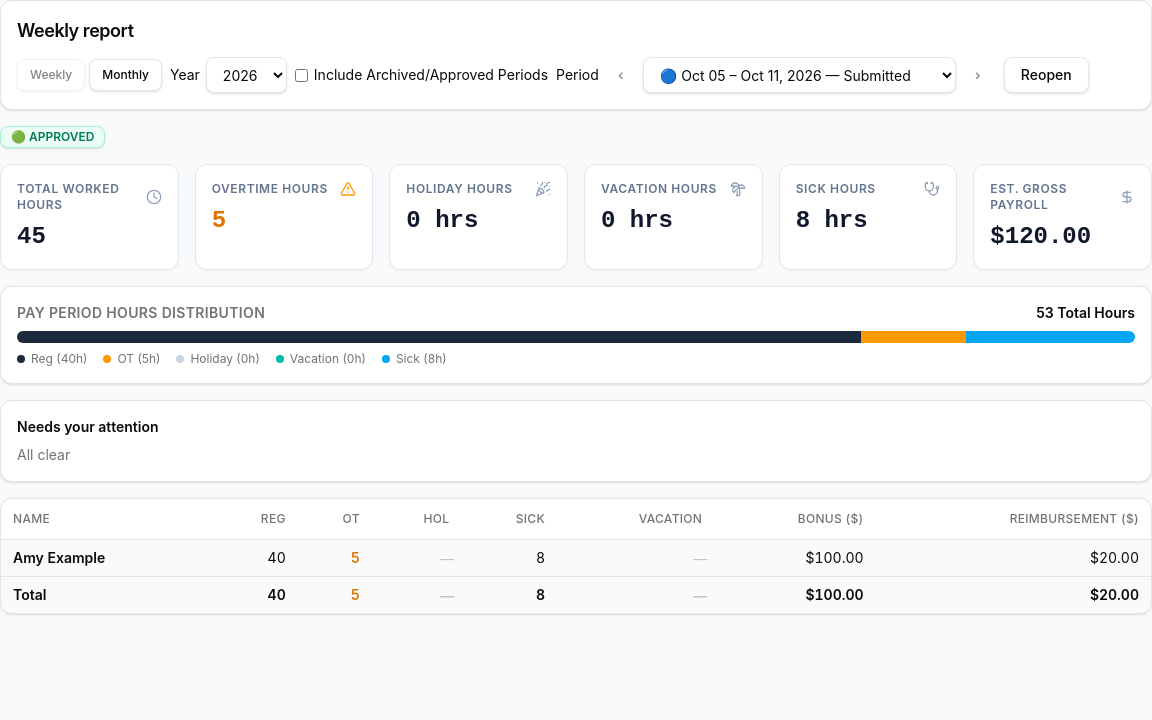
it: ReportPage › reopen posts the reason and returns the period to OPEN
This screenshot has width=1152, height=720.
Expected: the text "Amy Example" is shown, [13, 548, 105, 566]
Step 1. Click the button "Reopen" → [1046, 75], box [1004, 57, 1089, 93]
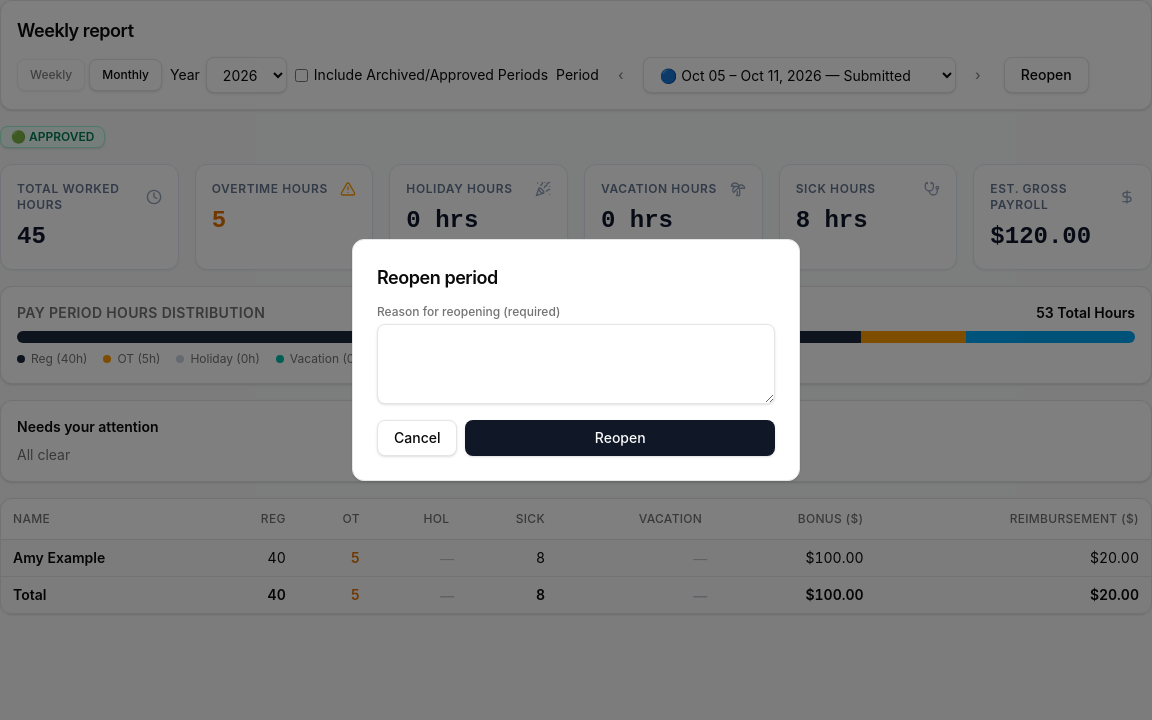
Expected: the dialog "Reopen period" is shown, [352, 239, 800, 481]
Step 2. Type "payroll error" into the text box named "Reopen reason" → [576, 364], box [377, 324, 775, 404]
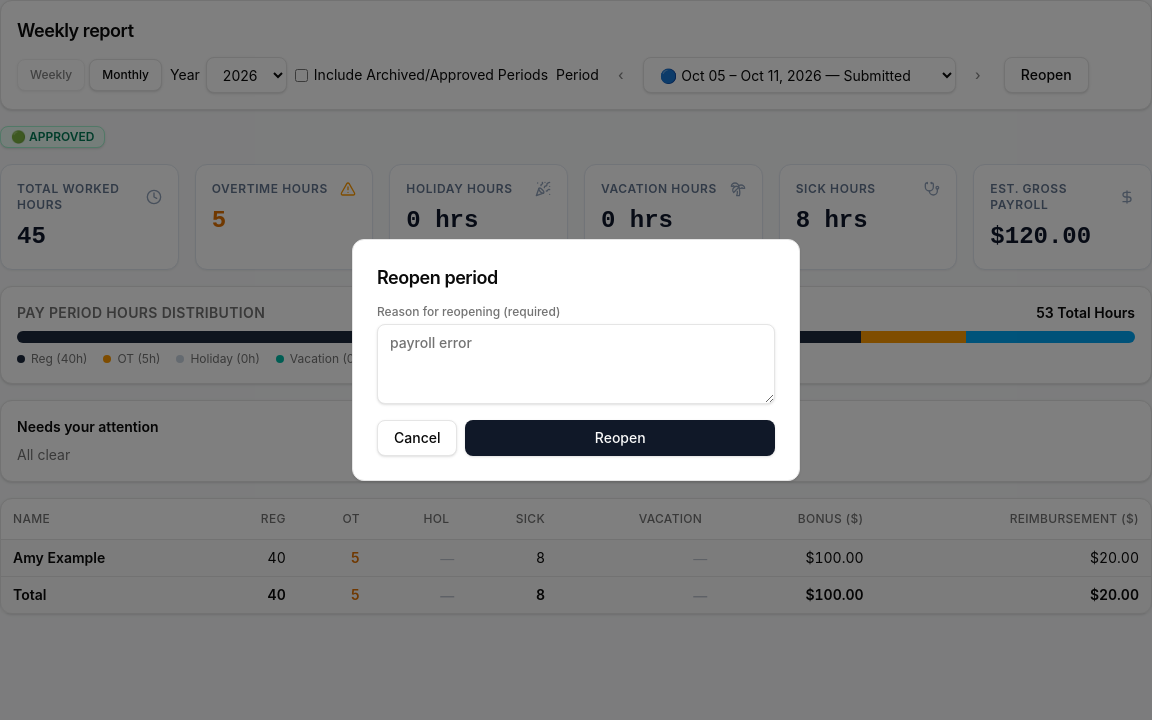
Step 3. Click the button "Reopen" below "Reason for reopening (required)" → [620, 438], box [466, 420, 775, 456]
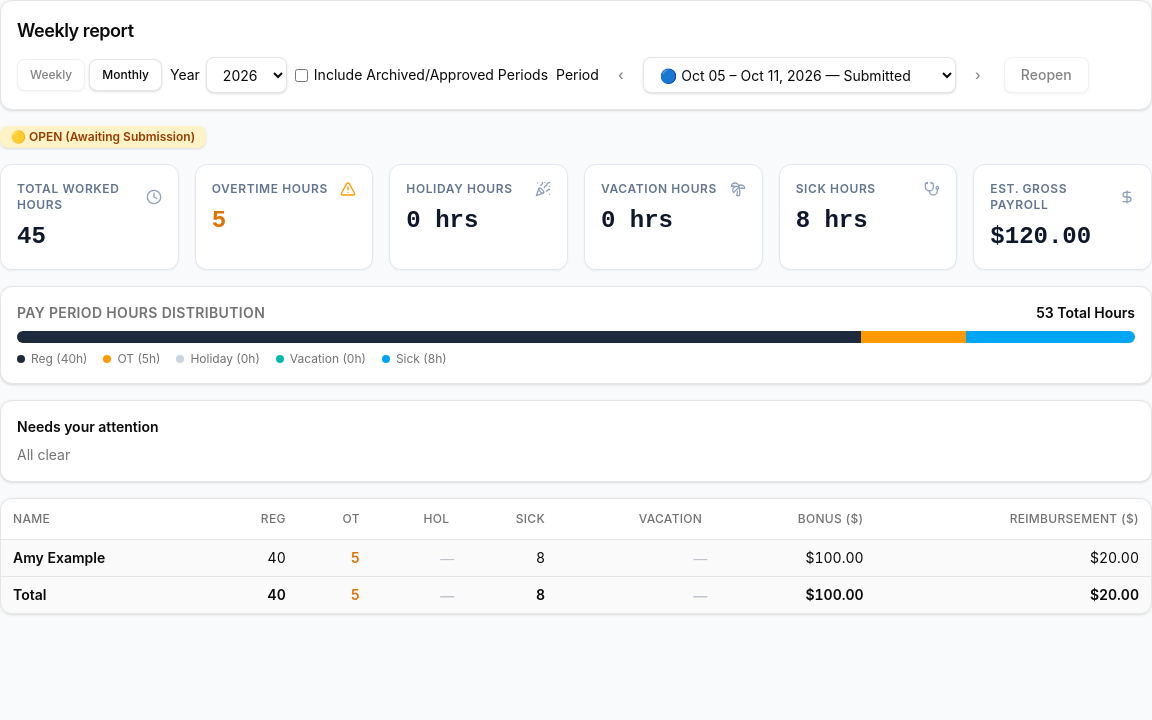
Expected: the text "🟡 OPEN (Awaiting Submission)" is shown, [0, 126, 206, 148]
Expected: the text "🟢 APPROVED" is gone
